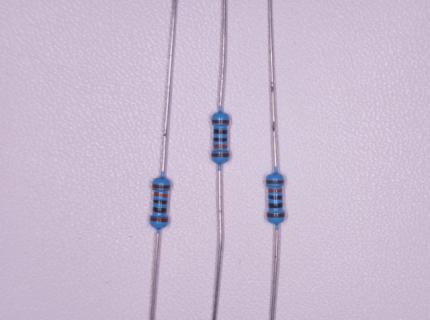Black band: (213, 129, 228, 135), (153, 199, 168, 205), (152, 207, 167, 213), (268, 203, 283, 208), (213, 137, 228, 142), (268, 195, 282, 200)
Brown band: (150, 216, 168, 222), (152, 184, 171, 189), (212, 153, 230, 158), (267, 213, 285, 218), (212, 120, 230, 124), (266, 180, 284, 184)
Orange band: (153, 191, 168, 198), (268, 189, 283, 193), (213, 144, 227, 148)
